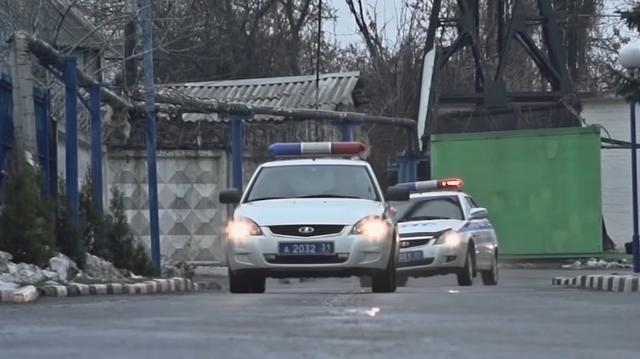police car: (228, 140, 398, 296), (384, 177, 500, 287)
